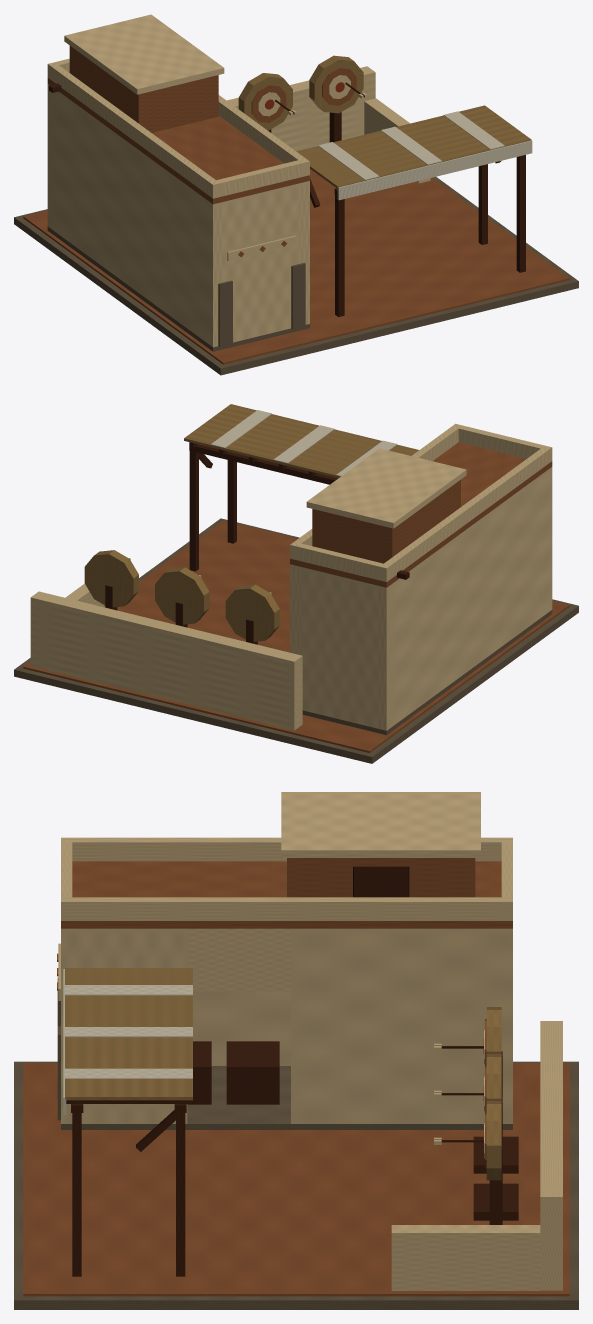
File: Berber_Range_Age4.fbx
The picture shows the model from 3 angles, top to bottom: view 1: azimuth 30°, elevation 25°; view 2: azimuth 150°, elevation 25°; view 3: azimuth 270°, elevation 25°; orthographic projection. The views are drawn at different scales.
Parts seen in each view (by area): view 1: court_floor, store_west_wall, store_south_wall, foundation, loft_roof_cap, woven_shooting_roof, store_roof, arrow_workshop_loft, target_earth_backstop, store_roof_parapet, owner_front_valance, store_roof_parapet.001 (+17 smaller); view 2: store_west_wall, target_earth_backstop, court_floor, store_north_wall, foundation, loft_roof_cap, woven_shooting_roof, arrow_workshop_loft, store_roof, store_roof_parapet, target_2_straw, target_0_straw (+11 smaller); view 3: court_floor, store_east_rear, loft_roof_cap, woven_shooting_roof, foundation, store_roof, store_roof_parapet.001, east_rear_boundary, store_east_front, store_door_lintel, target_earth_backstop, store_roof_parapet (+19 smaller).
Part boxes in pixels (box(x1,y1,x2,y2)): court_floor: box(23, 169, 569, 364); store_west_wall: box(47, 83, 222, 347); store_south_wall: box(222, 183, 300, 342); foundation: box(14, 177, 578, 375); loft_roof_cap: box(64, 14, 224, 94); woven_shooting_roof: box(296, 105, 531, 188); store_roof: box(47, 78, 309, 204); arrow_workshop_loft: box(69, 45, 218, 132); target_earth_backstop: box(227, 66, 375, 151); store_roof_parapet: box(47, 62, 220, 198); owner_front_valance: box(337, 140, 532, 200); store_roof_parapet.001: box(218, 95, 309, 176); store_west_wall: box(377, 467, 552, 730); target_earth_backstop: box(30, 591, 302, 730); court_floor: box(23, 520, 569, 752); store_north_wall: box(299, 566, 377, 728); foundation: box(14, 518, 578, 763); loft_roof_cap: box(306, 448, 466, 528); woven_shooting_roof: box(184, 404, 418, 478); arrow_workshop_loft: box(312, 479, 460, 563); store_roof: box(290, 442, 552, 587); store_roof_parapet: box(379, 445, 552, 581); target_2_straw: box(84, 550, 138, 607); target_0_straw: box(225, 584, 279, 641); court_floor: box(23, 1063, 569, 1296); store_east_rear: box(291, 928, 512, 1123); loft_roof_cap: box(281, 792, 480, 857); woven_shooting_roof: box(65, 968, 192, 1100); foundation: box(14, 1061, 578, 1309); store_roof: box(61, 861, 512, 928); store_roof_parapet.001: box(61, 897, 512, 920); east_rear_boundary: box(391, 1225, 540, 1290); store_east_front: box(61, 928, 187, 1123); store_door_lintel: box(187, 928, 290, 991); target_earth_backstop: box(540, 1021, 562, 1290); store_roof_parapet: box(61, 837, 512, 861).
Bounding box in the file's own units: 600 × 338 × 600.
Materials: 7 (7 with a texture image).
